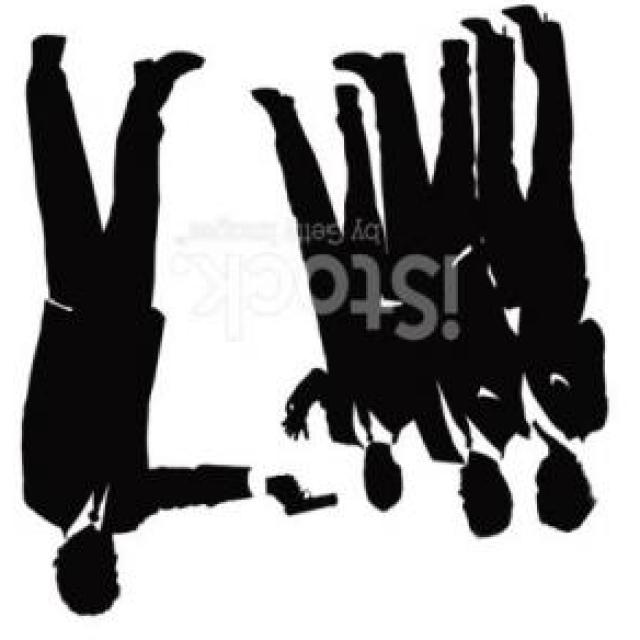pistol: (280, 474, 342, 520)
